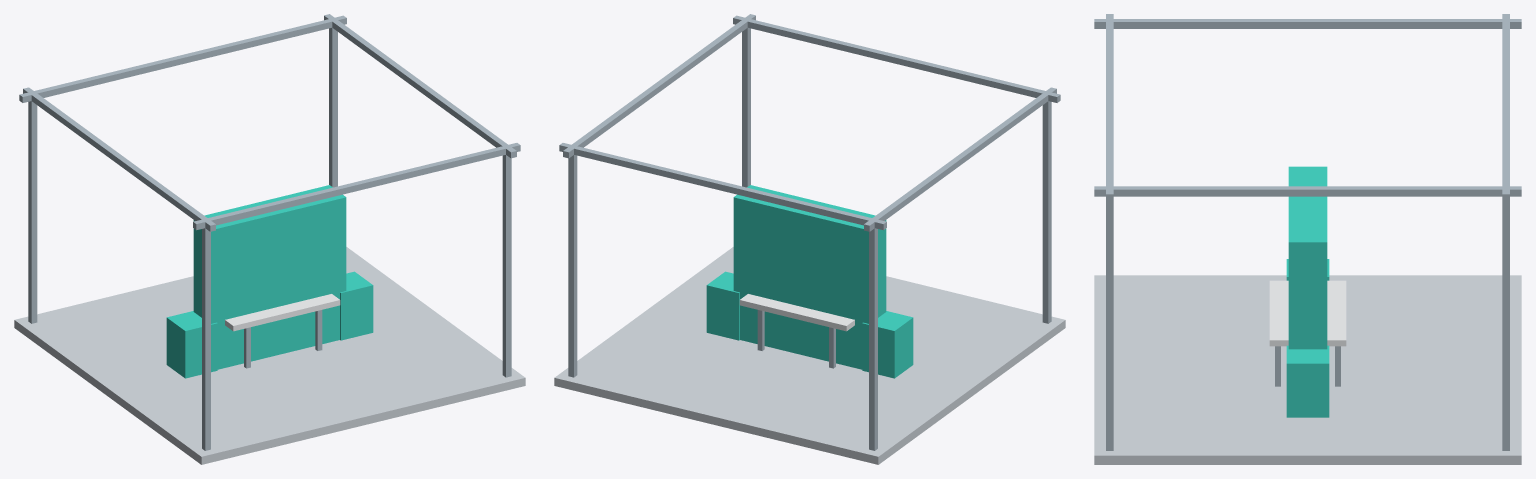
3 views of the same model, side by side, from view 1: azimuth 30°, elevation 25°; view 2: azimuth 150°, elevation 25°; view 3: azimuth 270°, elevation 25° (orthographic). The views are drawn at different scales.
Visible parts, largest first — view 1: Exhibition Booth Concept; view 2: Exhibition Booth Concept; view 3: Exhibition Booth Concept.
Boxes of the visible parts, x1,y1,x2,y2 form: Exhibition Booth Concept: [14, 14, 525, 464]; Exhibition Booth Concept: [554, 14, 1065, 464]; Exhibition Booth Concept: [1094, 14, 1521, 464].
Size of the model in its own units: 5 by 3.49 by 5.
